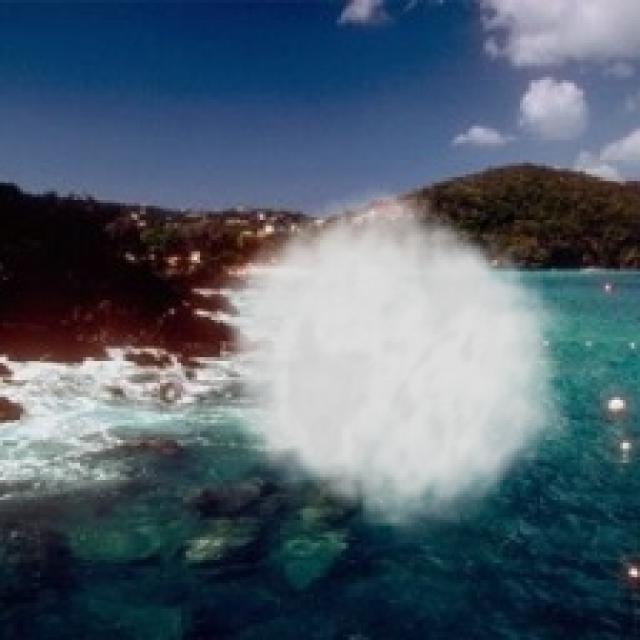smoke: (206, 180, 574, 546)
